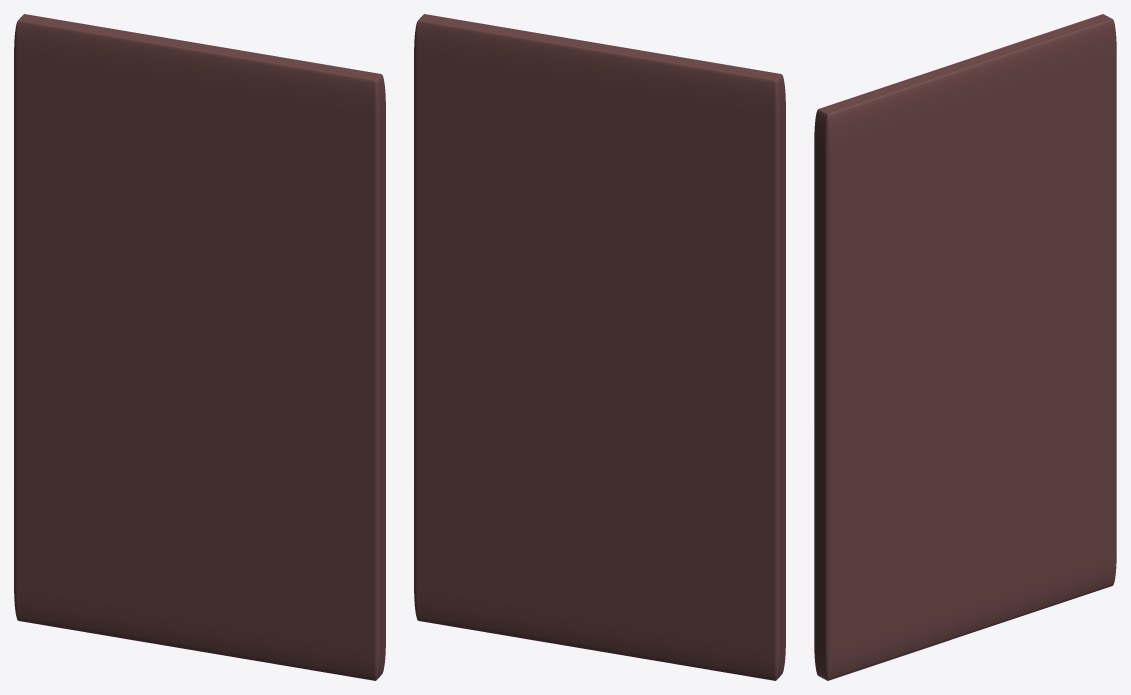
File: Door.fbx
The picture shows the model from 3 angles, left to right: view 1: azimuth 30°, elevation 25°; view 2: azimuth 210°, elevation 25°; view 3: azimuth 270°, elevation 25°; orthographic projection. The views are drawn at different scales.
Visible parts, largest first — view 1: Cube.015; view 2: Cube.015; view 3: Cube.015.
Boxes of the visible parts, x1,y1,x2,y2 form: Cube.015: (14,14,385,680); Cube.015: (414,14,785,680); Cube.015: (814,14,1116,680).
Size of the model in its own units: 240 by 613 by 297.
